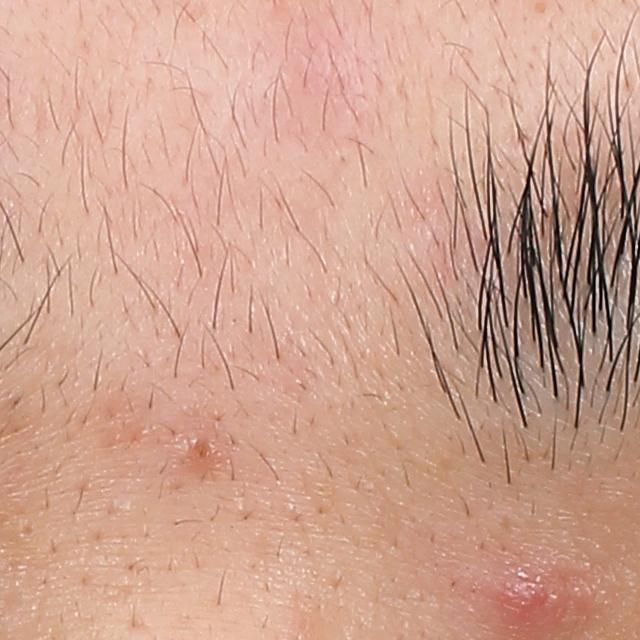papule: (487, 567, 558, 633)
